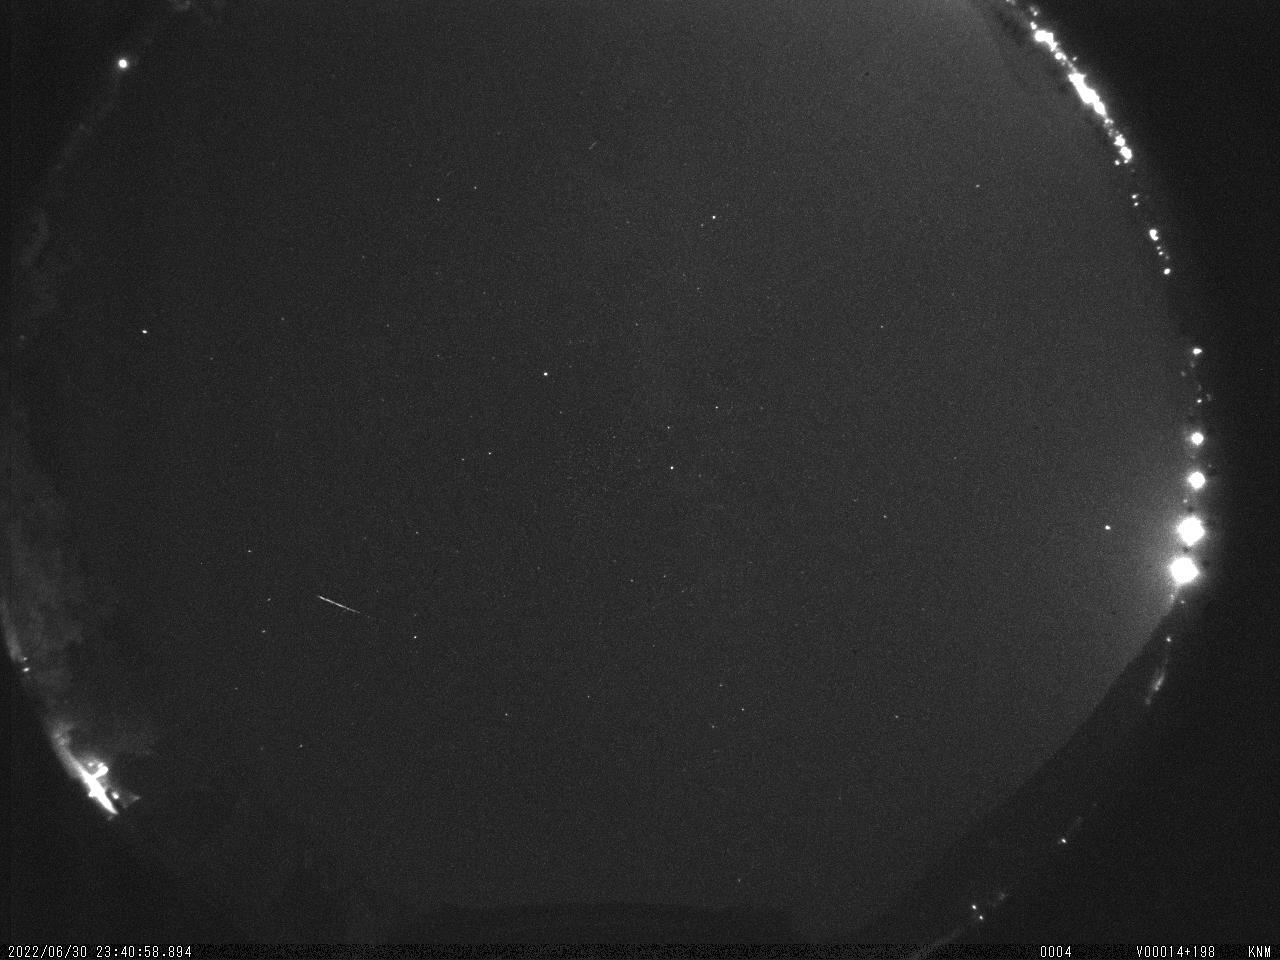Meteor: (307, 588, 373, 625)
